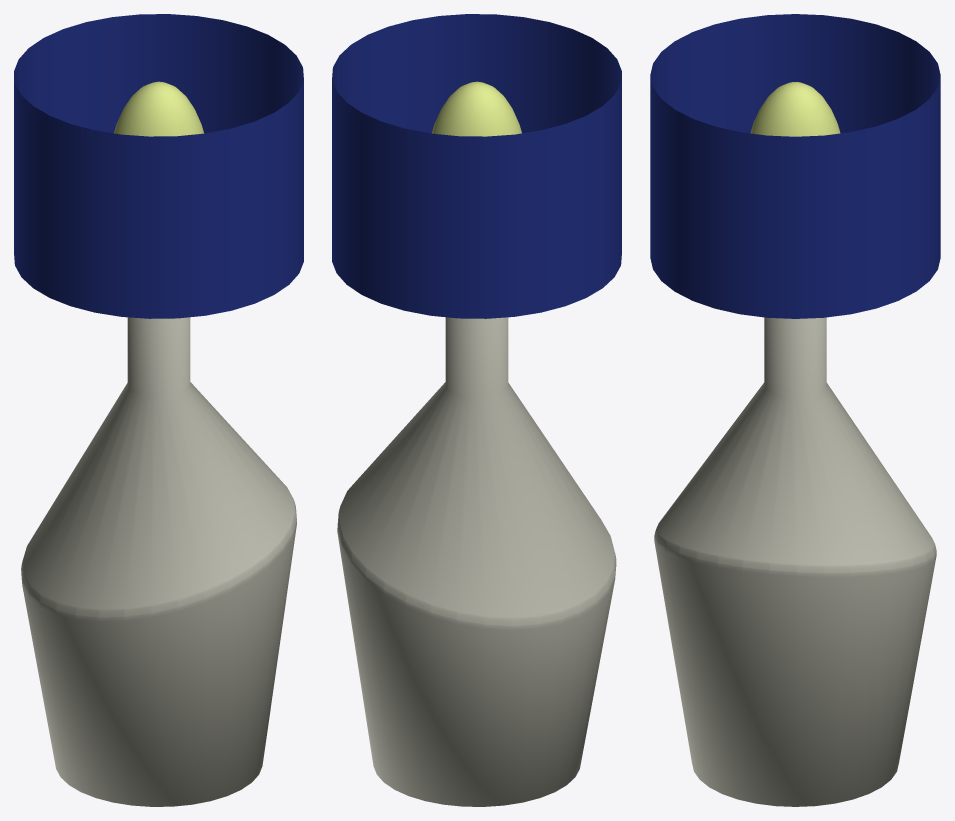
Rendered from Lamp.fbx.
3 views of the same model, side by side, from view 1: azimuth 30°, elevation 25°; view 2: azimuth 150°, elevation 25°; view 3: azimuth 270°, elevation 25° (orthographic).
Parts seen in each view (by area): view 1: Cylinder; view 2: Cylinder; view 3: Cylinder.
Boxes of the visible parts, bbox=[...] form: Cylinder: bbox=[14, 14, 303, 806]; Cylinder: bbox=[332, 14, 621, 806]; Cylinder: bbox=[650, 14, 940, 806].
Size of the model in its own units: 21.97 by 57.38 by 21.97.
